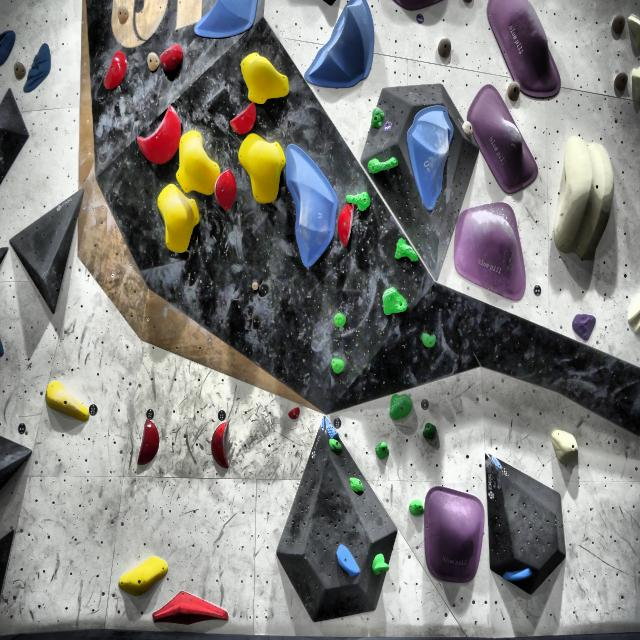Hold: (465, 80, 543, 193), (482, 0, 566, 97), (558, 132, 612, 266), (454, 203, 526, 303), (283, 139, 335, 275), (424, 482, 486, 591), (306, 0, 377, 84), (407, 104, 456, 213), (155, 181, 200, 254), (152, 590, 230, 629), (192, 1, 263, 43), (135, 104, 180, 170), (180, 125, 218, 195), (240, 51, 290, 103), (115, 556, 171, 600), (43, 379, 90, 428), (23, 41, 55, 96), (133, 417, 162, 468), (549, 424, 580, 466), (210, 420, 232, 472), (103, 50, 128, 94), (160, 38, 184, 78), (335, 542, 360, 579), (214, 170, 235, 214), (231, 101, 258, 135), (383, 284, 409, 316), (367, 152, 398, 178), (388, 392, 413, 422), (498, 564, 534, 584), (572, 310, 596, 340), (345, 188, 373, 212), (338, 203, 354, 245), (394, 233, 416, 263), (371, 550, 392, 581), (627, 293, 640, 336), (318, 413, 338, 438), (370, 104, 386, 132), (347, 474, 366, 495), (461, 118, 475, 142), (406, 497, 424, 515), (330, 354, 344, 376), (486, 452, 503, 469), (375, 440, 389, 460), (422, 421, 436, 441), (284, 403, 299, 421), (328, 437, 343, 455), (421, 330, 436, 348), (333, 311, 345, 328)
